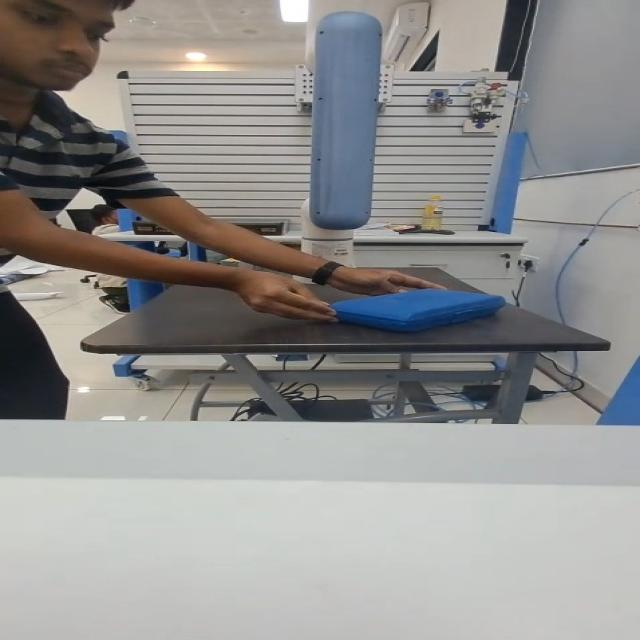top-surface: (360, 290, 482, 309)
